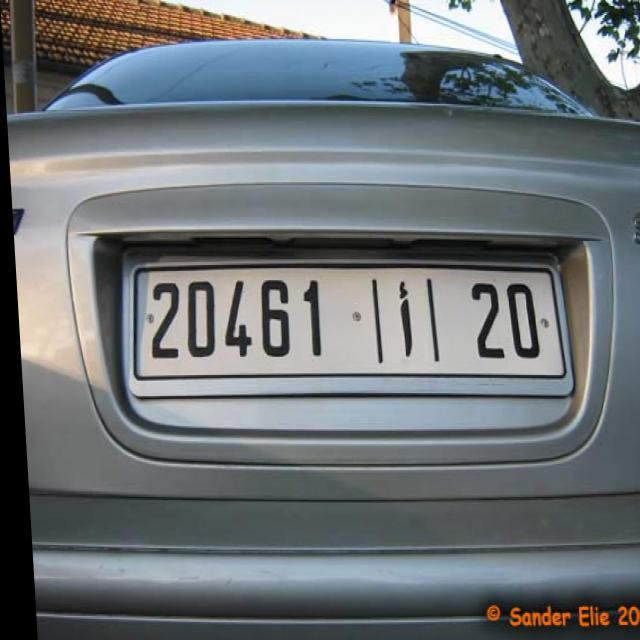License-Plate: (133, 271, 561, 376)
